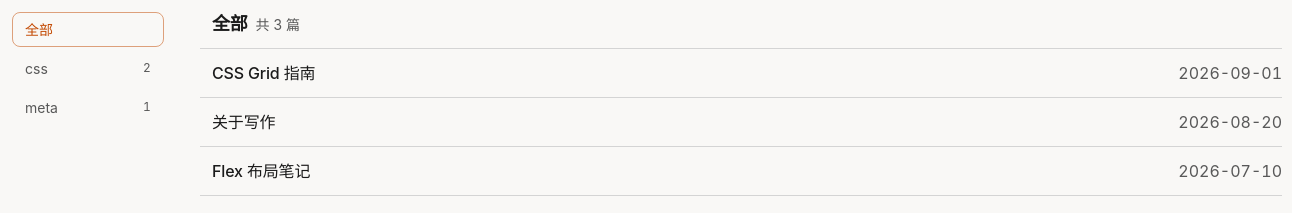
PostsExplorer 正常渲染 › 点击分类过滤列表，标题与条数联动
What coordinates should you click on to do the following:
click the button "css 2"
I would click on:
 (88, 68)
Its box is [12,51,164,86].
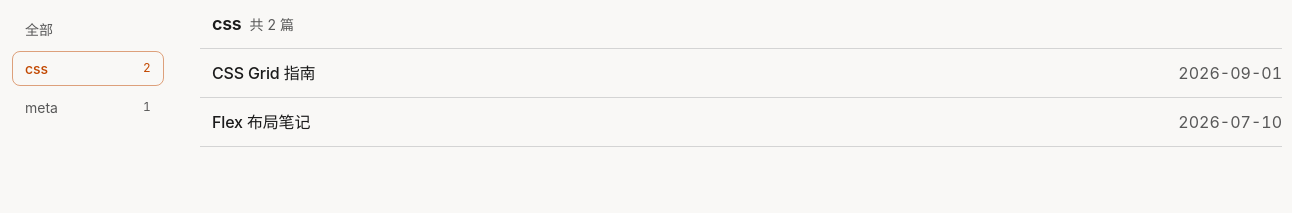
expect the link "CSS Grid 指南" is shown: met, box [212,63,315,83]
expect the heading "css" is shown: met, box [212,12,242,36]
expect the link "关于写作" is gone: met
